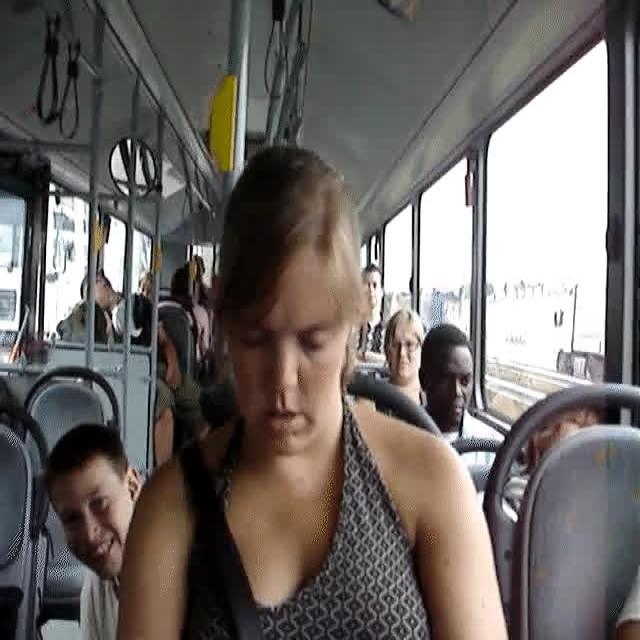no-seatbelt: (215, 142, 367, 458)
